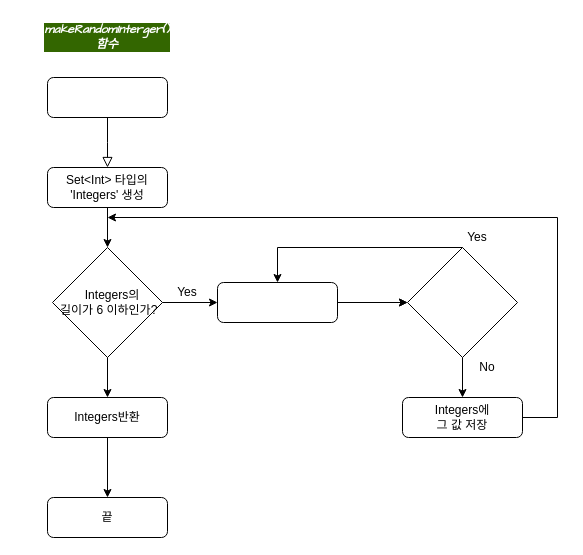
Image size: 583x555. Some labels were removed from this diagram. Each missing label, with the centre of its shape:
"1~45 사이의 랜덤한 값 생성" goes at [277,302].
"Integers에 있는 값인가?" goes at [462,302].
"시작" goes at [107,97].
